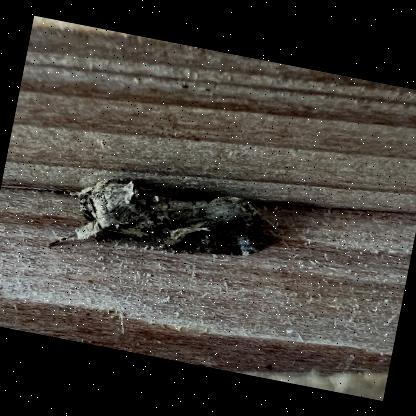Fall Armyworm Moth: (20, 155, 274, 290)
